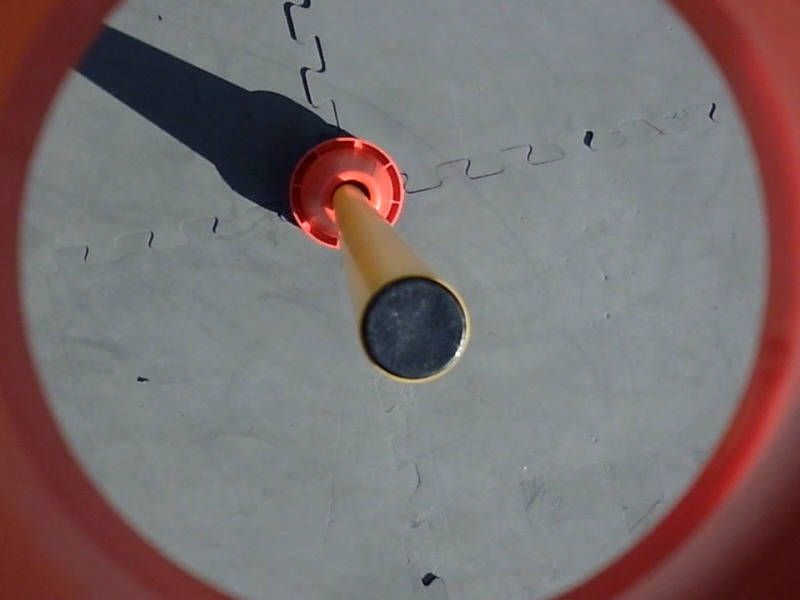tip: (355, 271, 473, 387)
